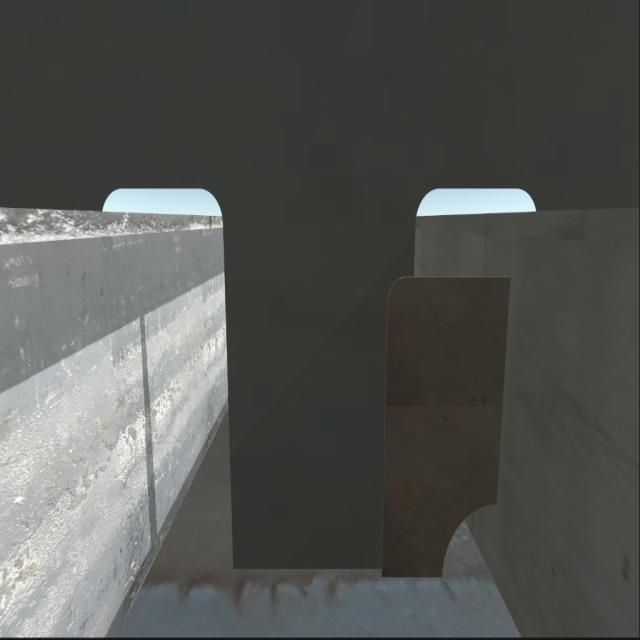fillet_hole: (437, 504, 502, 583)
fillet_yong_jeop_jang: (225, 553, 454, 586)
longi_yong_jeop_jang: (486, 270, 521, 510)
plate_CP05: (378, 275, 511, 585)
